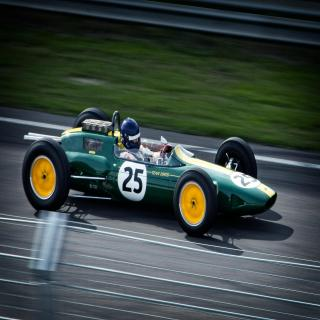Normal_vehicle: (22, 107, 279, 245)
